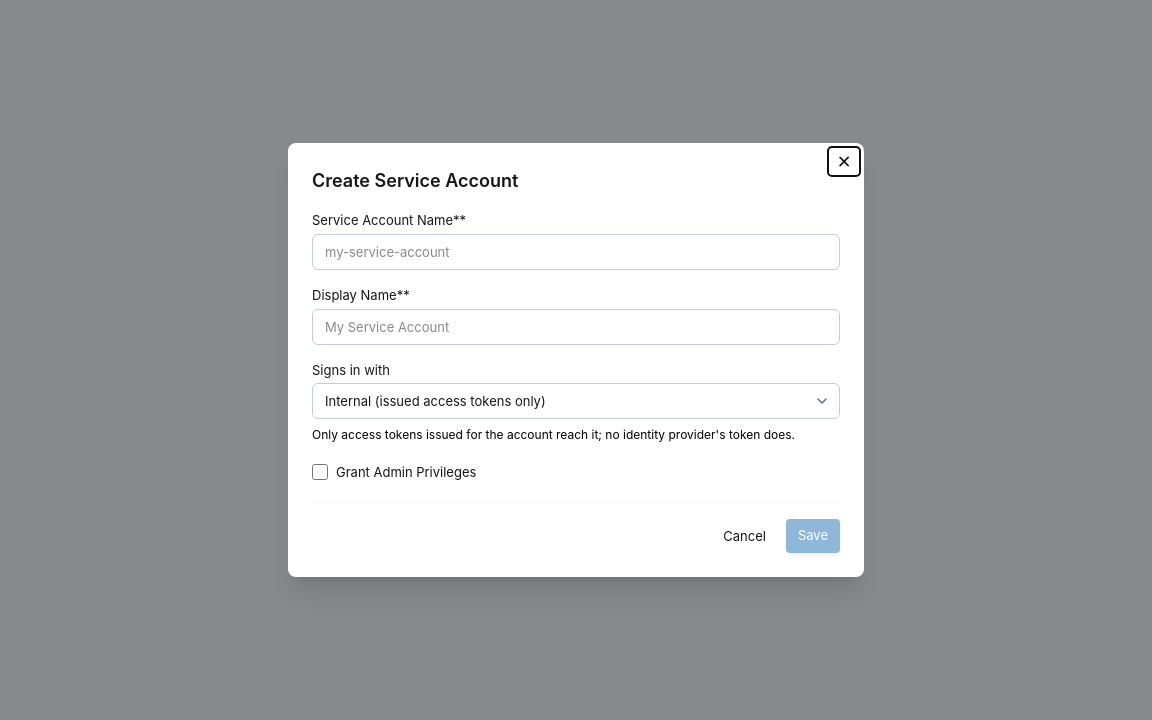
Test case: CreateServiceAccountModal › asks for the subject of an external administrator account
Step 1. Type "root-bot" into the field labelled "Service Account Name**" → point(576, 252), box [312, 234, 840, 270]
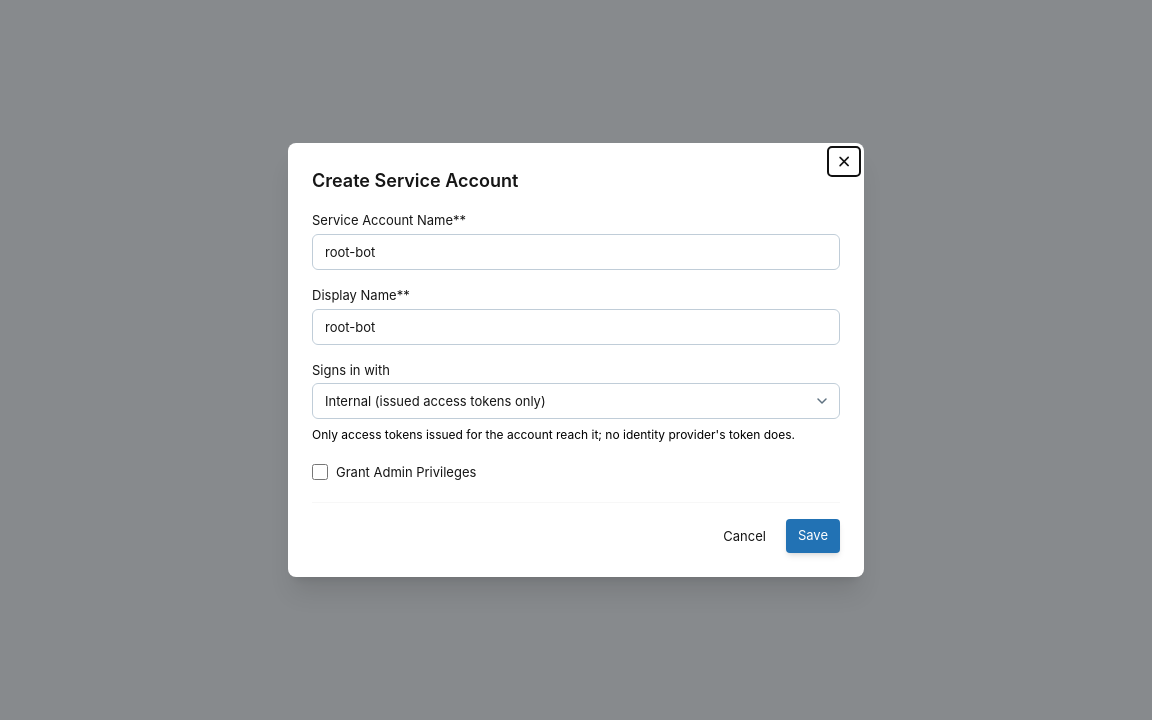
Step 2. Click the checkbox labelled "Grant Admin Privileges" → point(320, 472), box [312, 464, 328, 480]
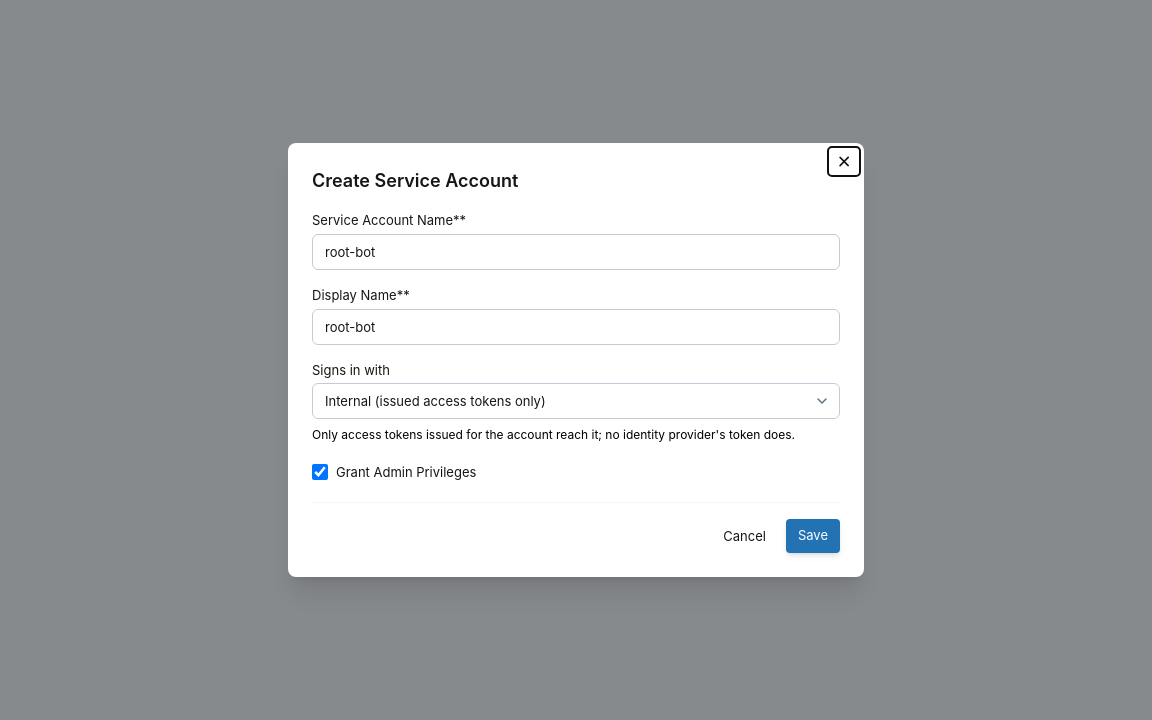
Step 3. Select "CI workloads" in the dropdown labelled "Signs in with" → point(576, 401), box [312, 383, 840, 419]
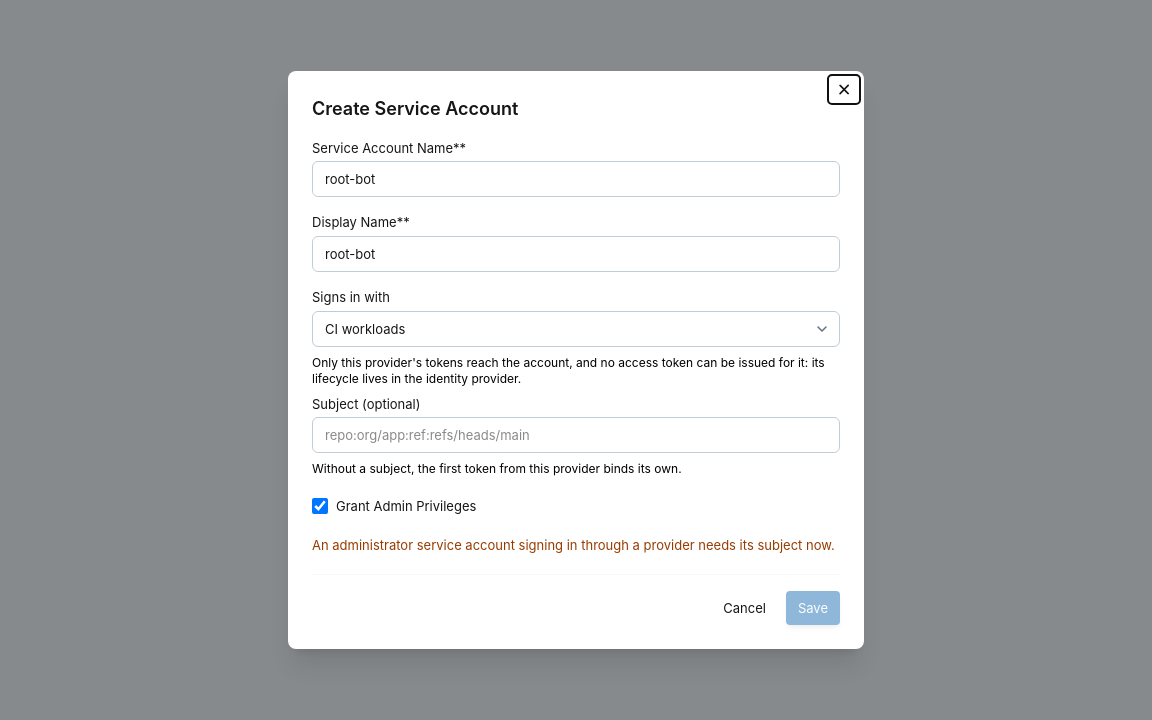
Expected: the button "Save" is disabled, [786, 591, 840, 625]
Expected: the message shows "needs its subject now", [312, 537, 835, 553]
Step 4. Type "client-root" into the field labelled "Subject (optional)" → point(576, 435), box [312, 417, 840, 453]
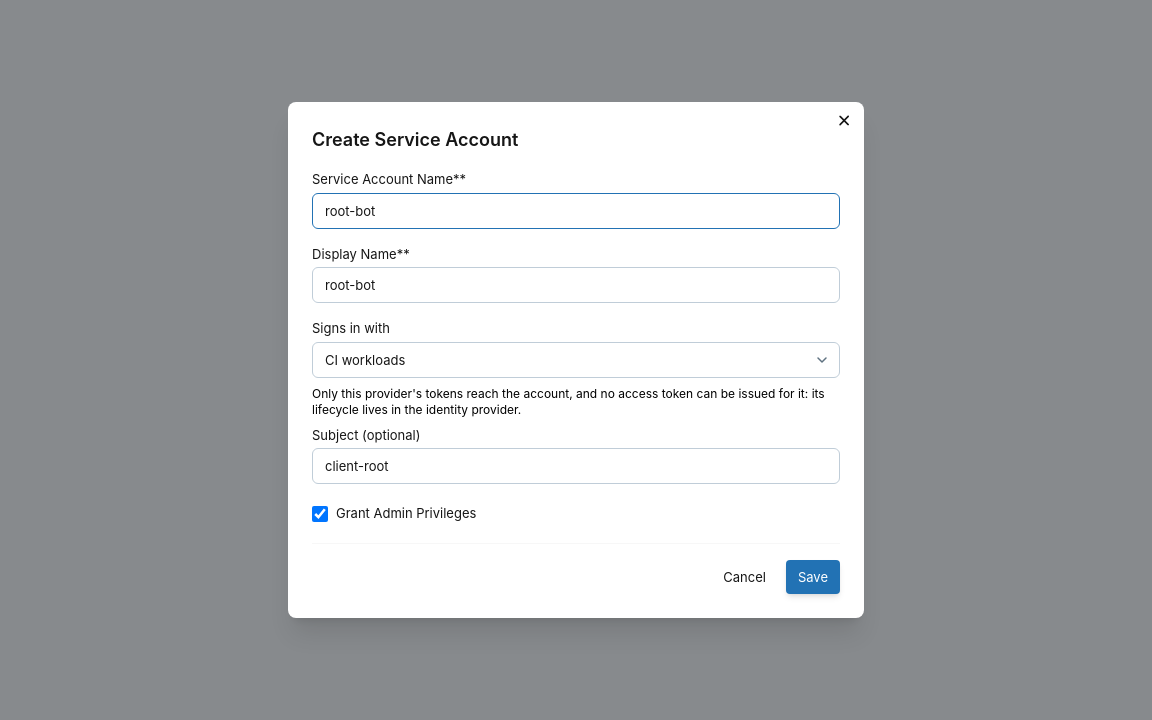
Expected: the button "Save" is enabled, [786, 560, 840, 594]
